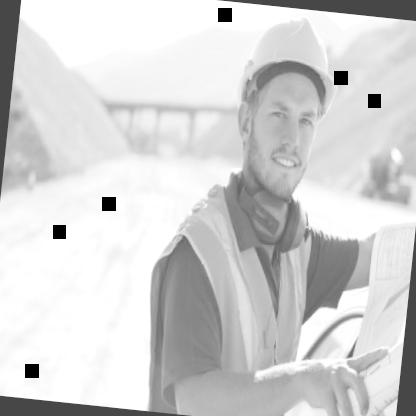helmet: (214, 2, 360, 214)
